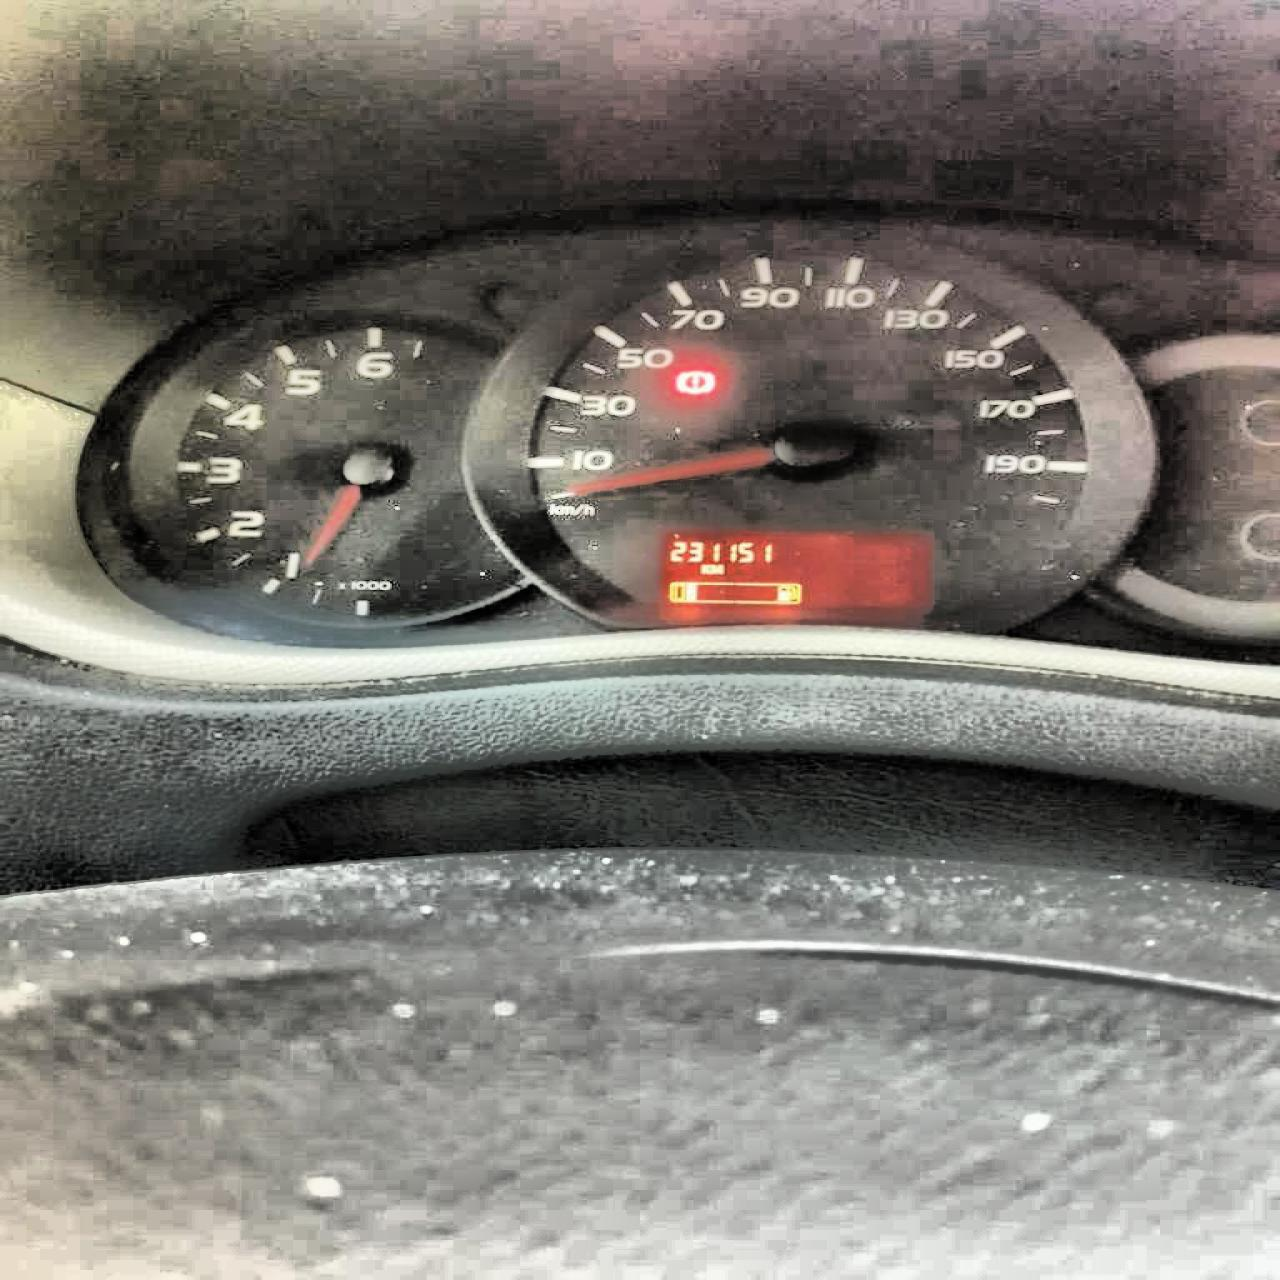1: (708, 538, 720, 563), (761, 539, 771, 563), (727, 539, 735, 563)
2: (667, 540, 686, 561)
3: (687, 538, 703, 563)
5: (737, 538, 755, 564)
X: (710, 563, 723, 573), (699, 563, 710, 573)
odometer: (647, 520, 938, 625)
